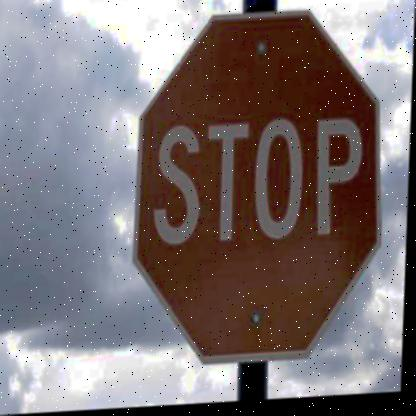Stop Sign: (127, 0, 399, 402)
